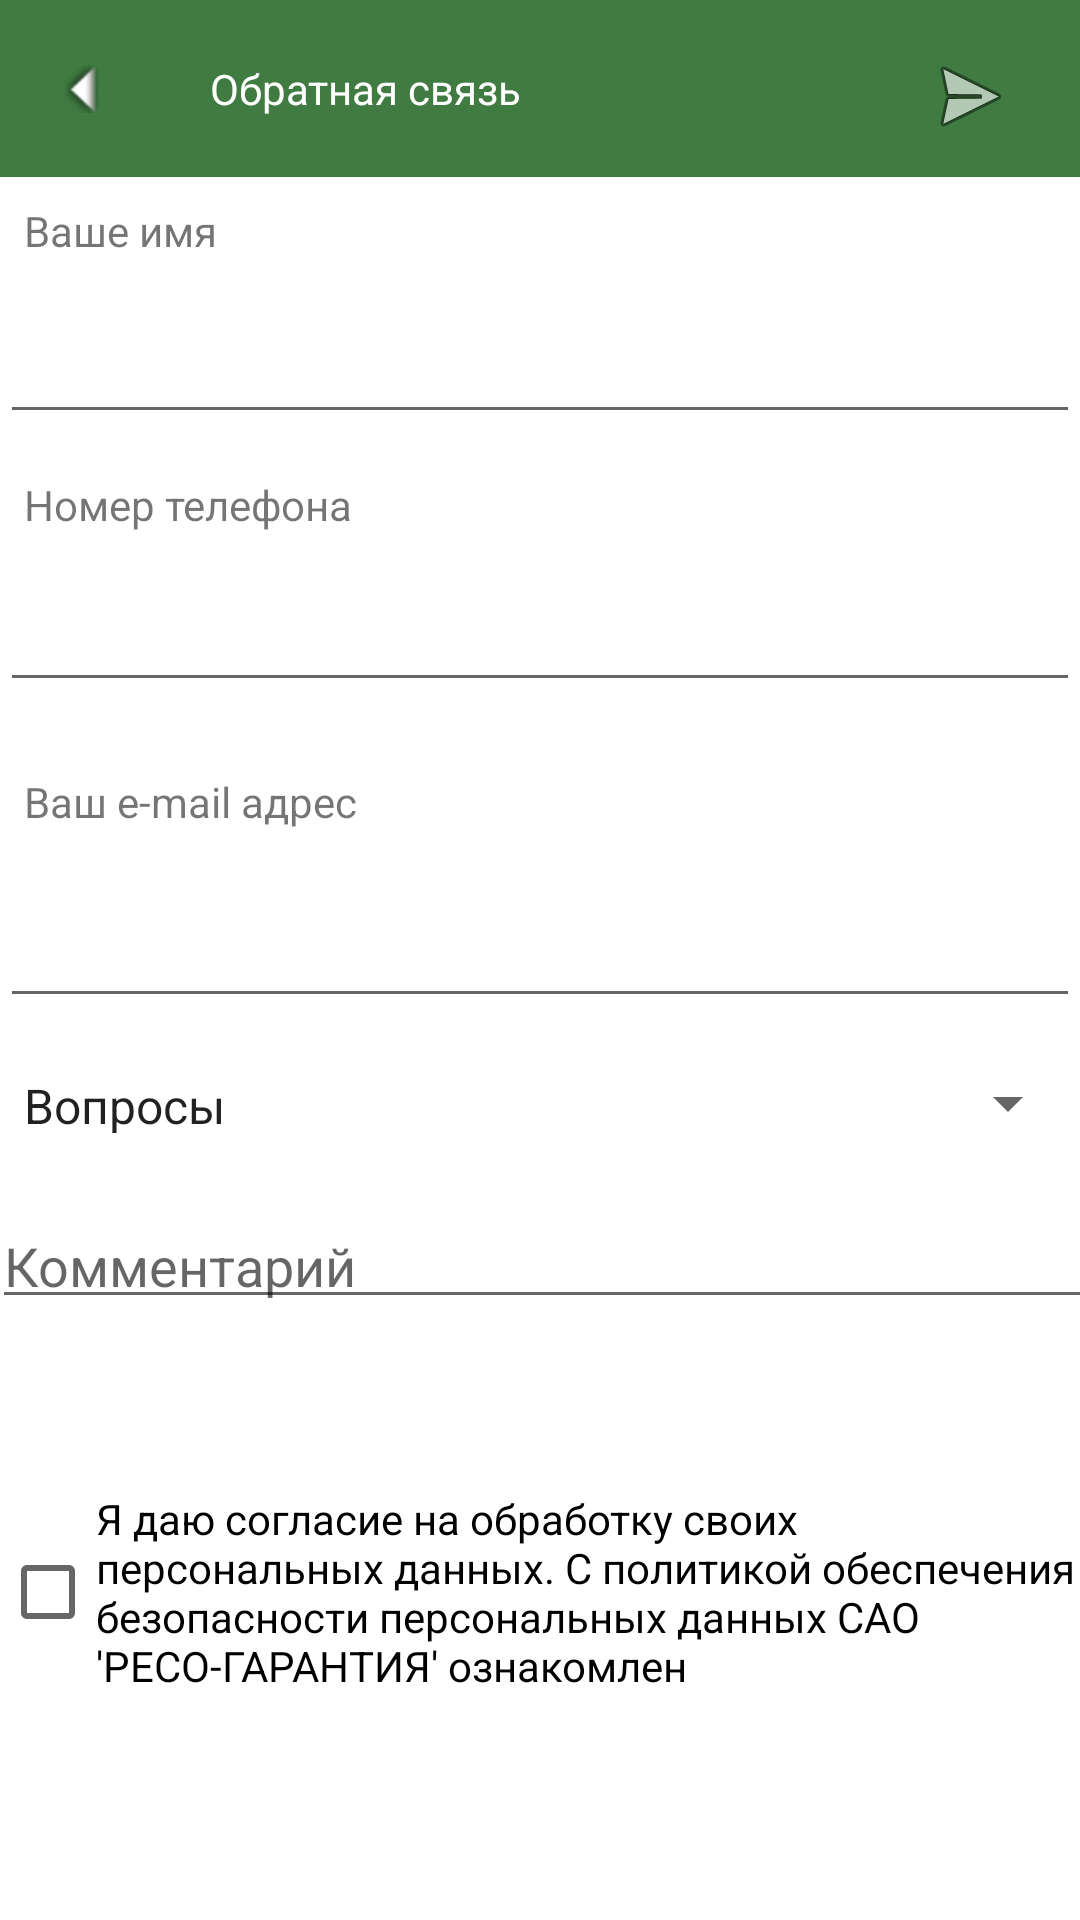

Icons on this 1080 × 1920 Android screen, each with the point to tap as point (x, y):
send: point (970, 96)
